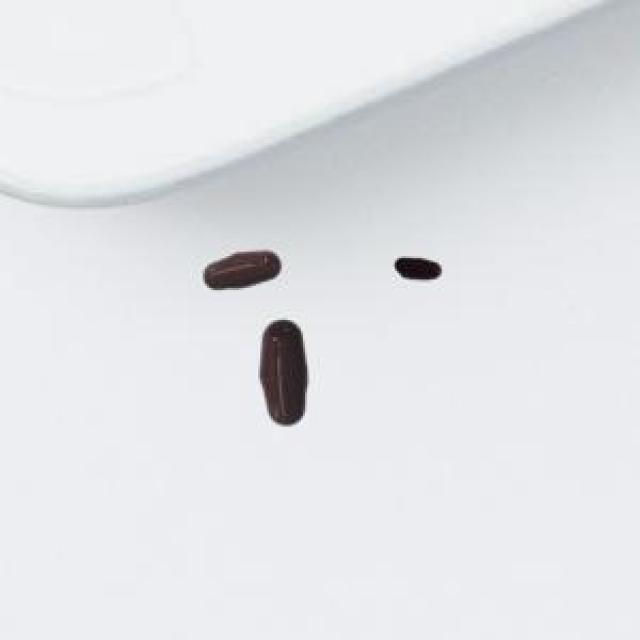DayZinc: (249, 308, 320, 432), (196, 230, 285, 295), (384, 244, 456, 291)
